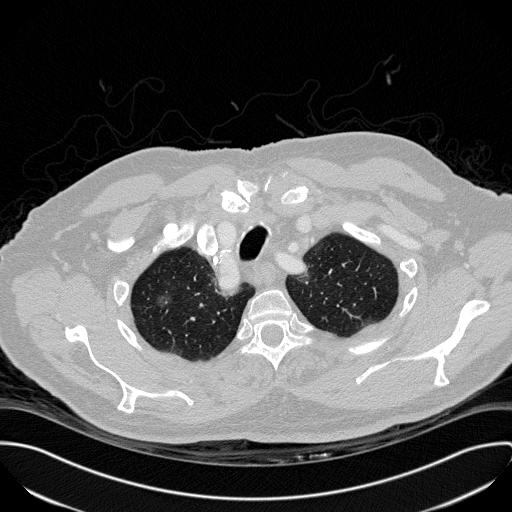nodule: (154, 290, 173, 309)
